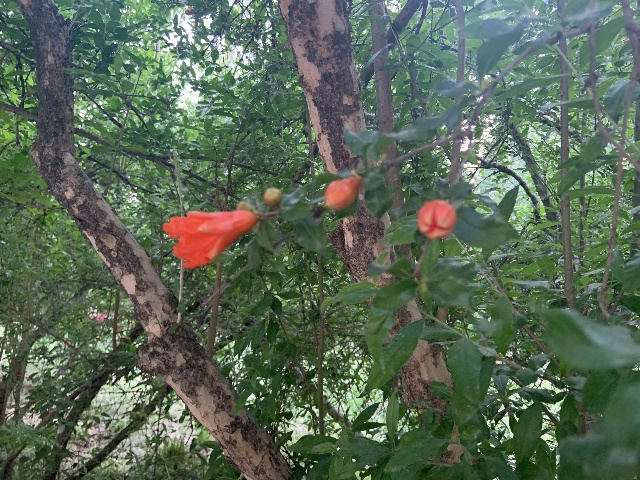bud: (416, 199, 456, 240), (323, 175, 362, 210), (263, 187, 282, 208)
flower: (163, 208, 258, 268)
